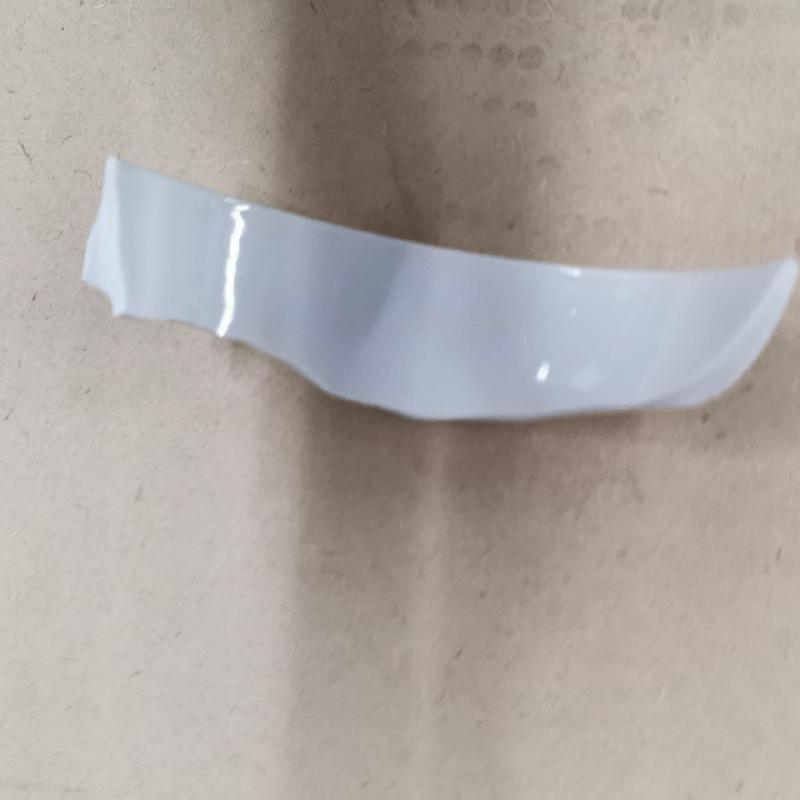ceram: (78, 147, 799, 431)
